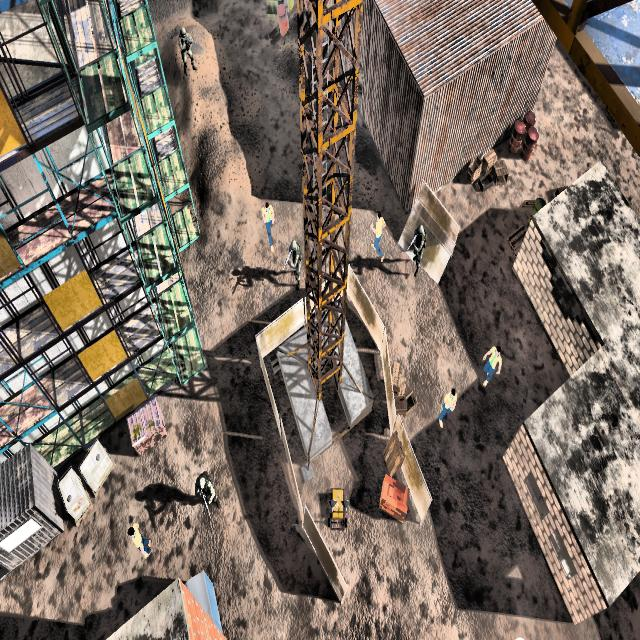bad: (192, 465, 220, 519), (407, 218, 427, 284), (284, 231, 304, 290), (178, 20, 198, 76)
good: (476, 328, 505, 400), (127, 514, 154, 574), (436, 376, 458, 438), (367, 202, 387, 268), (259, 195, 277, 254)
